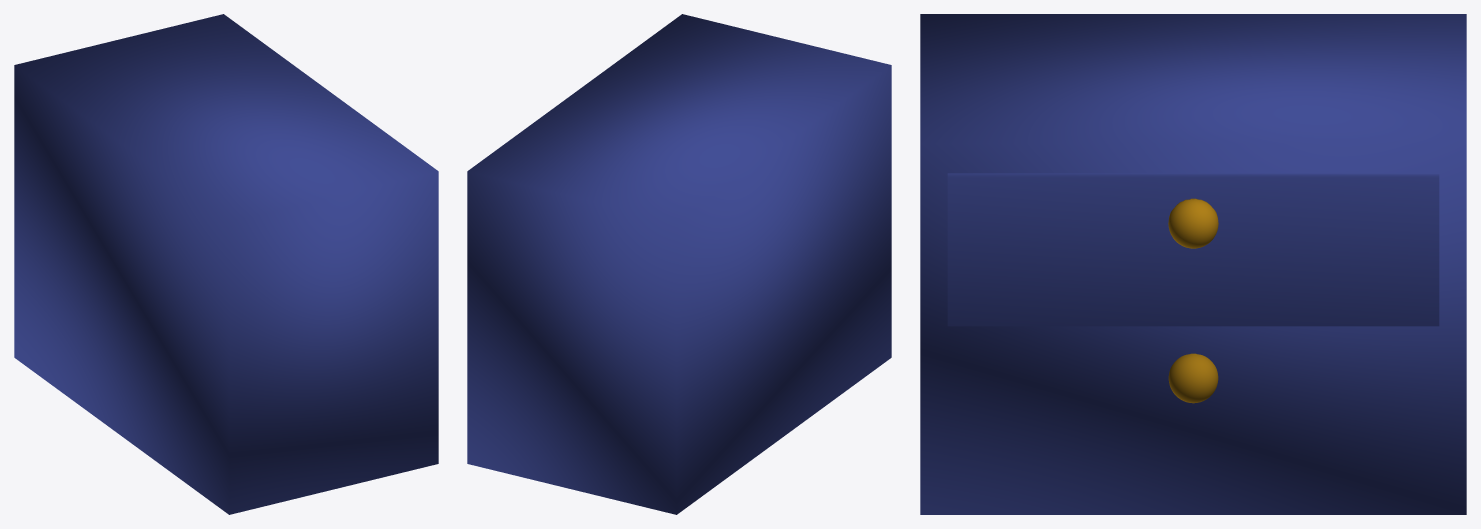
The model's file is キャビネット.glb.
3 renders of one model, left to right at view 1: azimuth 30°, elevation 25°; view 2: azimuth 150°, elevation 25°; view 3: azimuth 270°, elevation 25°, orthographic. The views are drawn at different scales.
Visible parts, largest first — view 1: キャビネット本体; view 2: キャビネット本体; view 3: キャビネット本体, 引き出し, 取っ手１, 取っ手２.
Part boxes in pixels (x1,y1,x2,y2): キャビネット本体: (14,14,438,514); キャビネット本体: (467,14,891,514); キャビネット本体: (920,14,1466,514); 引き出し: (947,173,1439,326); 取っ手１: (1168,198,1218,248); 取っ手２: (1168,353,1218,403).
Size of the model in its own units: 1.03 by 1.2 by 1.6.
